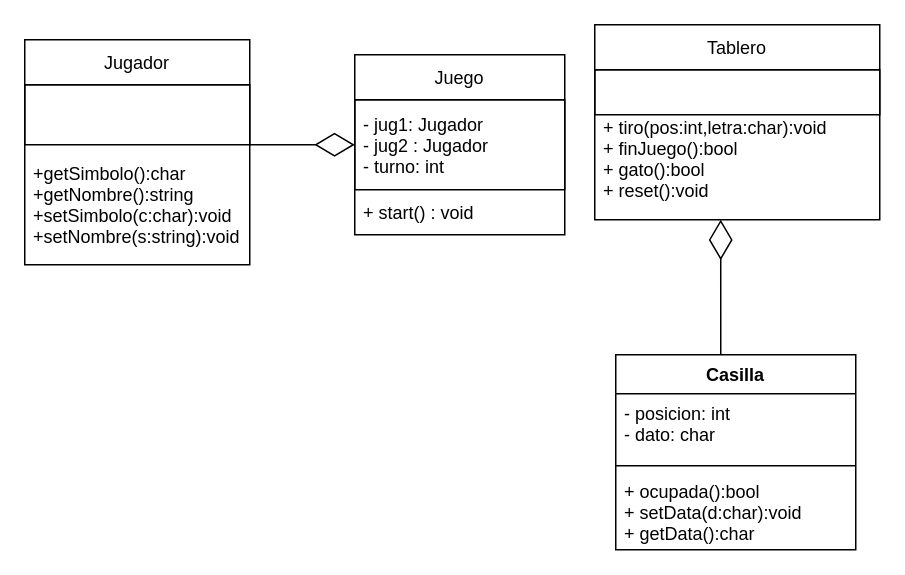
This 905x575 diagram has some shape labels left out. The box of each missing label's shape, as (x1, y1, x2, y2) in pixels:
- casillas [9]: Casilla: (593, 68, 880, 115)
-simbolo:char -nombre:string: (23, 83, 250, 145)
